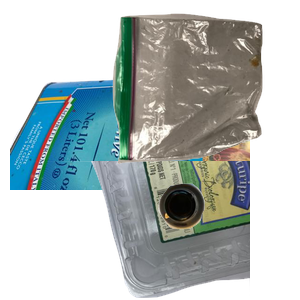glass: (156, 181, 300, 300)
metal: (10, 64, 250, 244)
plastic: (23, 161, 263, 300)
trash: (110, 11, 300, 167)
